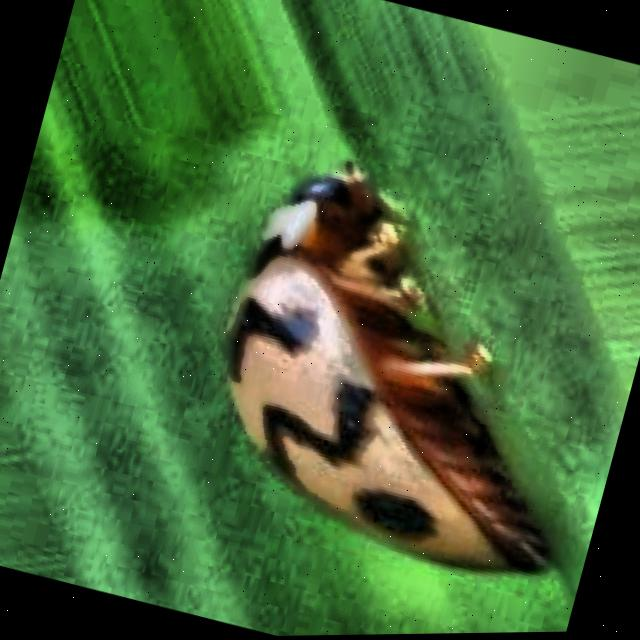Asian-Lady-beetle: (146, 85, 624, 628)
